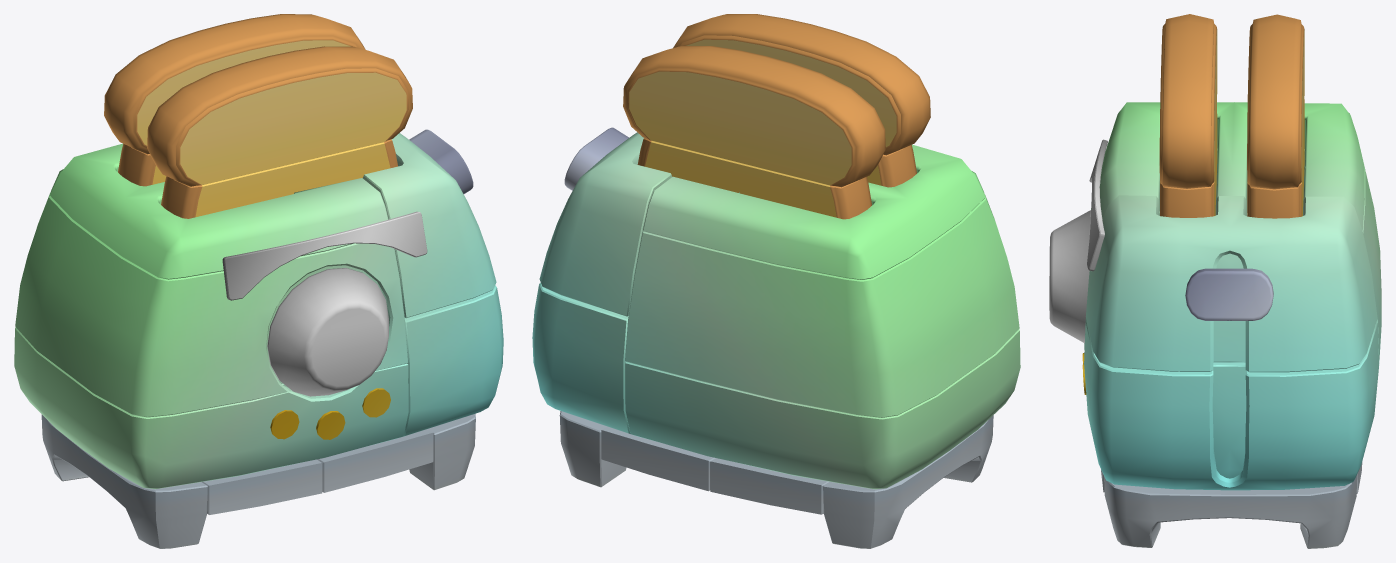
3 views of the same model, side by side, from view 1: azimuth 30°, elevation 25°; view 2: azimuth 150°, elevation 25°; view 3: azimuth 270°, elevation 25° (orthographic).
Visible parts, largest first — view 1: Cube_L3 4.005, Cube_L3 2.005, Cube_L1 4.008, Cube_L3 3.005, Cube_L2 2.008, Cube_L1 3.010, Cube_L3 1.005, Cube_L3.006, Cube_L2 4.007, Cube_L1 1.010, Cube_L1 2.010, Cube_L2 3.008 (+4 smaller); view 2: Cube_L3 4.005, Cube_L3 2.005, Cube_L1 3.010, Cube_L3 3.005, Cube_L3 1.005, Cube_L1 4.008, Cube_L3.006, Cube_L2 4.007, Cube_L1.011, Cube_L2 3.008, Cube_L2 1.008, Cube_L2.009 (+2 smaller); view 3: Cube_L3 1.005, Cube_L3.006, Cube_L3 3.005, Cube_L2.009, Cube_L1 4.008, Cube_L1 3.010, Cube_L2 2.008, Cube_L1 7.007, Cube_L1.011, Cube_L1 1.010, Cube_L3 4.005, Cube_L1 2.010.
Part boxes in pixels (box(x1,y1,x2,y2)): Cube_L3 4.005: box(15, 192, 407, 417); Cube_L3 2.005: box(14, 327, 408, 489); Cube_L1 4.008: box(147, 46, 412, 186); Cube_L3 3.005: box(50, 143, 388, 279); Cube_L2 2.008: box(267, 268, 388, 396); Cube_L1 3.010: box(104, 14, 365, 154); Cube_L3 1.005: box(363, 133, 496, 318); Cube_L3.006: box(403, 285, 503, 436); Cube_L2 4.007: box(41, 414, 207, 548); Cube_L1 1.010: box(161, 139, 397, 218); Cube_L1 2.010: box(222, 211, 427, 300); Cube_L2 3.008: box(202, 459, 322, 514); Cube_L3 4.005: box(625, 194, 1019, 417); Cube_L3 2.005: box(625, 329, 1020, 489); Cube_L1 3.010: box(623, 46, 885, 187); Cube_L3 3.005: box(643, 144, 985, 279); Cube_L3 1.005: box(539, 132, 672, 316); Cube_L1 4.008: box(673, 14, 930, 155); Cube_L3.006: box(532, 282, 630, 433); Cube_L2 4.007: box(823, 415, 993, 548); Cube_L1.011: box(637, 138, 871, 219); Cube_L2 3.008: box(710, 458, 829, 514); Cube_L2 1.008: box(601, 426, 715, 491); Cube_L2.009: box(559, 411, 626, 487); Cube_L3 1.005: box(1085, 195, 1377, 372); Cube_L3.006: box(1084, 321, 1378, 490); Cube_L3 3.005: box(1099, 102, 1364, 230); Cube_L2.009: box(1104, 474, 1357, 548); Cube_L1 4.008: box(1159, 14, 1217, 188); Cube_L1 3.010: box(1247, 14, 1304, 189); Cube_L2 2.008: box(1049, 210, 1090, 343); Cube_L1 7.007: box(1185, 268, 1273, 320); Cube_L1.011: box(1247, 99, 1304, 218); Cube_L1 1.010: box(1160, 105, 1217, 217); Cube_L3 4.005: box(1084, 139, 1381, 362); Cube_L1 2.010: box(1087, 139, 1107, 271).
Bounding box in the file's own units: 14.97 × 15.81 × 11.14.
